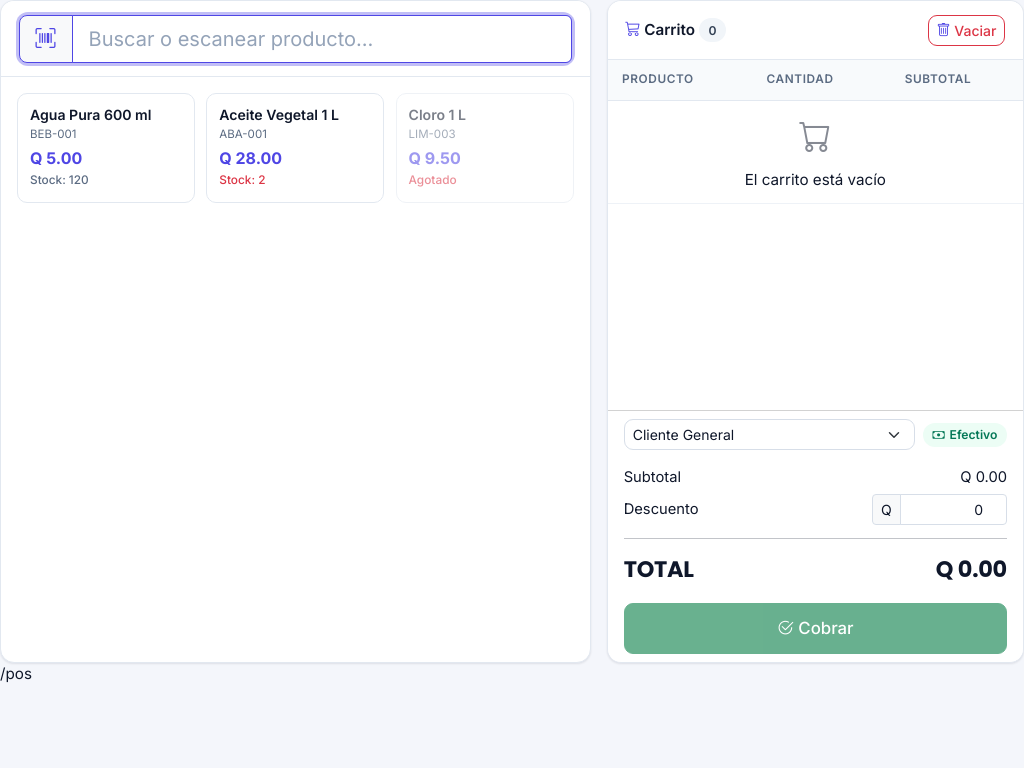
Punto de venta › si el servidor rechaza la venta, muestra el motivo y conserva el carrito
The image size is (1024, 768).
Click the button with aria-label "Agregar Agua": (106, 148) left=17, top=93, right=195, bottom=203
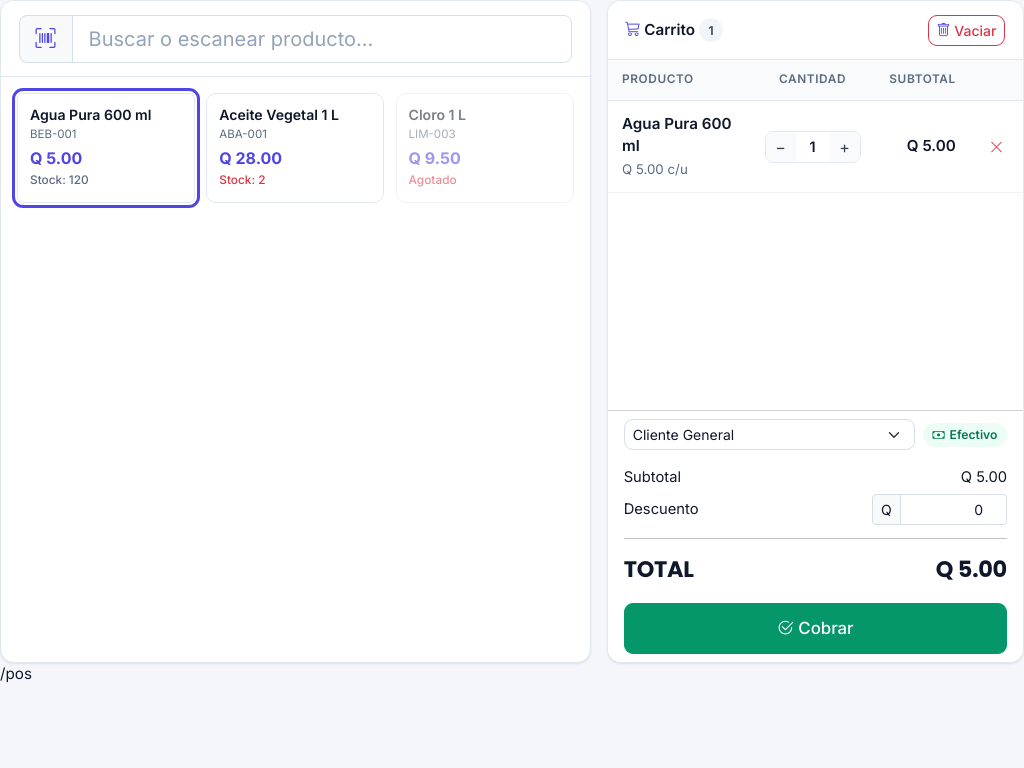
Click the button "Cobrar": (815, 628) left=624, top=603, right=1007, bottom=654
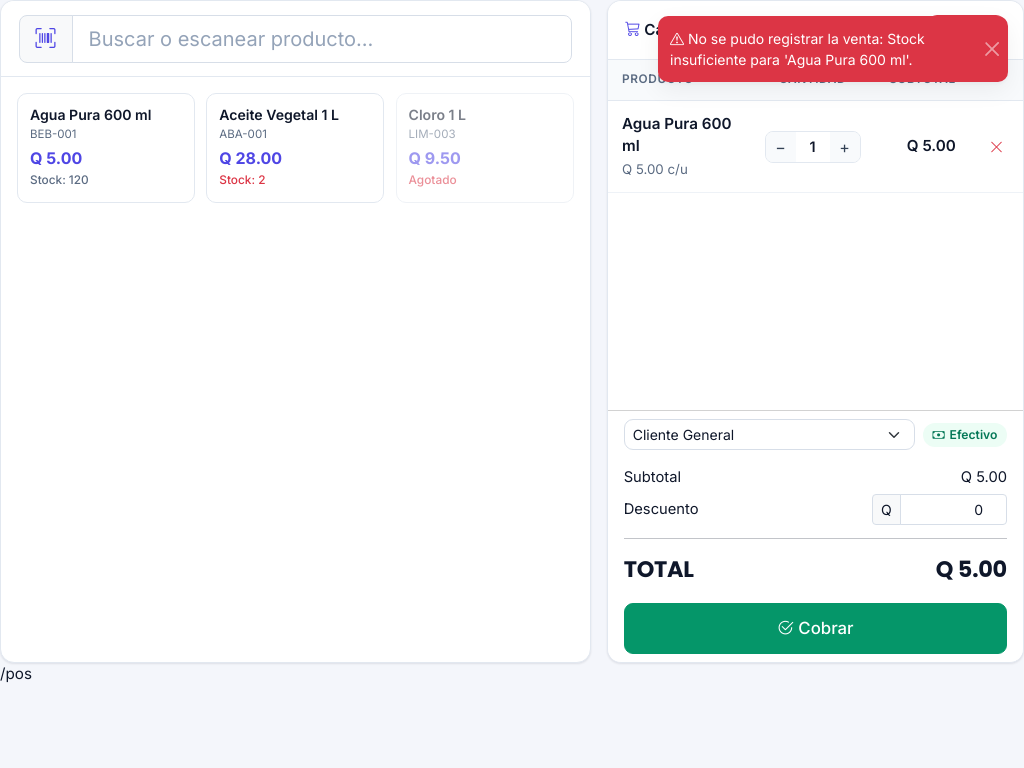
Result: the text "Stock insuficiente" is shown at left=670, top=30, right=925, bottom=68
